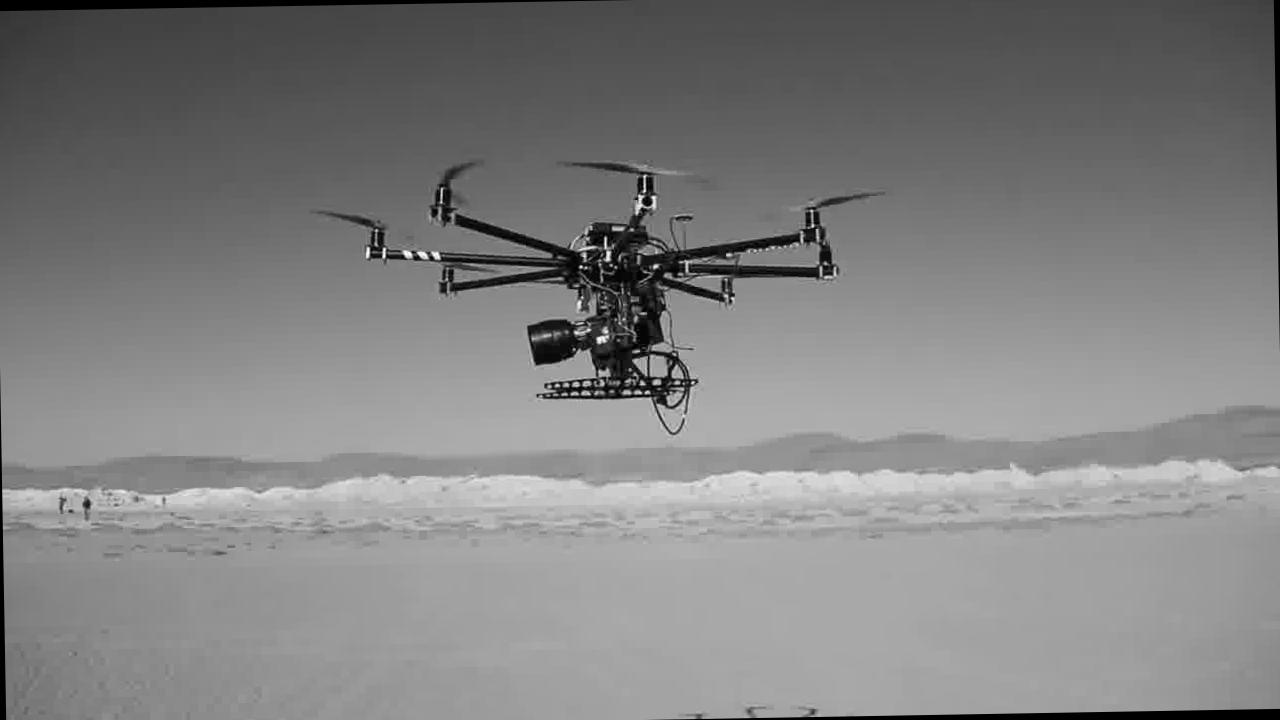drone: (339, 144, 856, 411)
